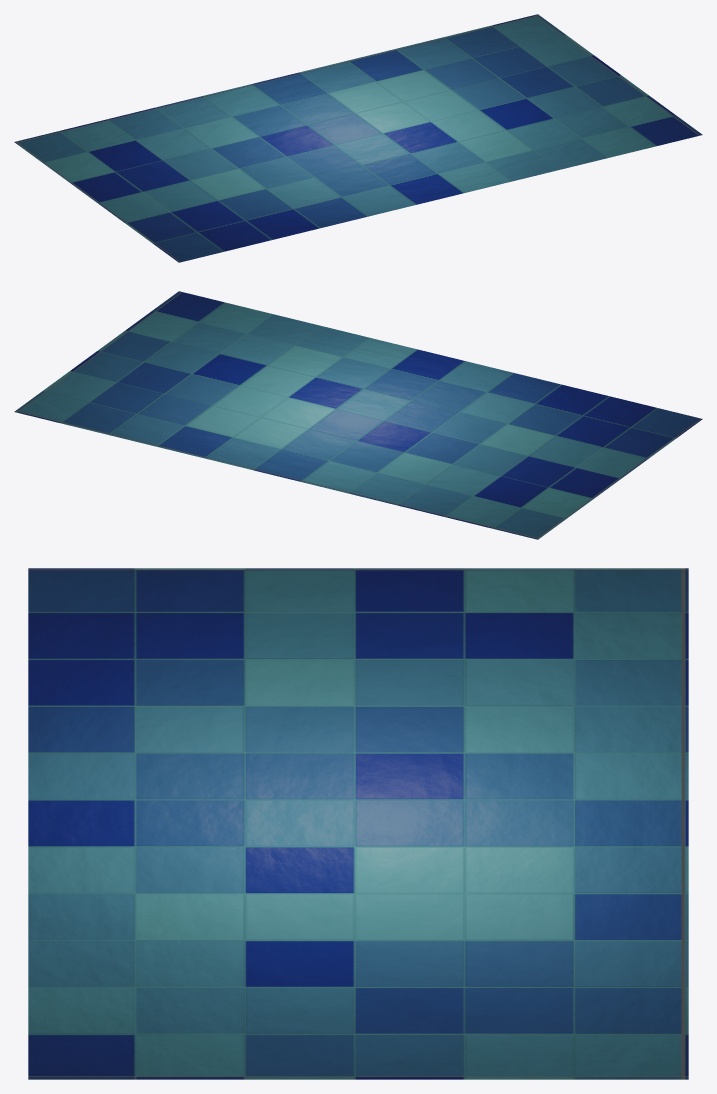
File: iceMap.fbx
3 renders of one model, top to bottom at view 1: azimuth 30°, elevation 25°; view 2: azimuth 150°, elevation 25°; view 3: azimuth 270°, elevation 25°, orthographic. The views are drawn at different scales.
Parts seen in each view (by area): view 1: Floor; view 2: Floor; view 3: Floor.
Boxes of the visible parts, x1,y1,x2,y2 form: Floor: [14, 14, 702, 262]; Floor: [14, 291, 702, 539]; Floor: [28, 568, 688, 1079].
Bounding box in the file's own units: 2200 × 0.000196 × 1200.
